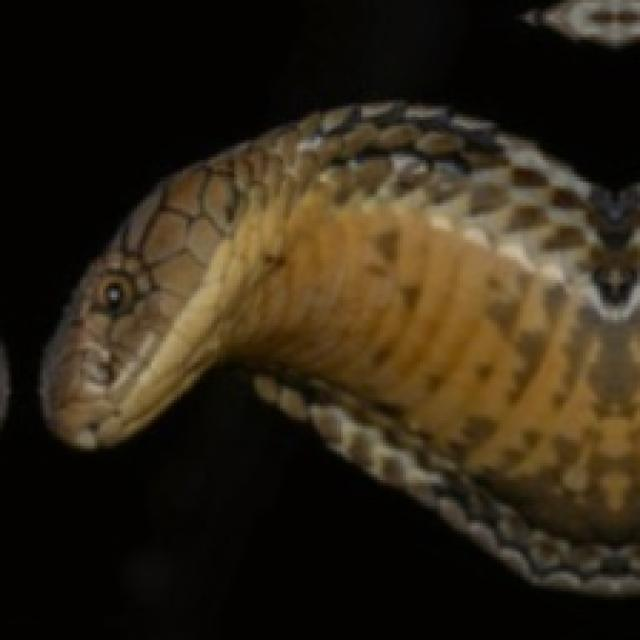king cobra: (40, 103, 637, 591)
